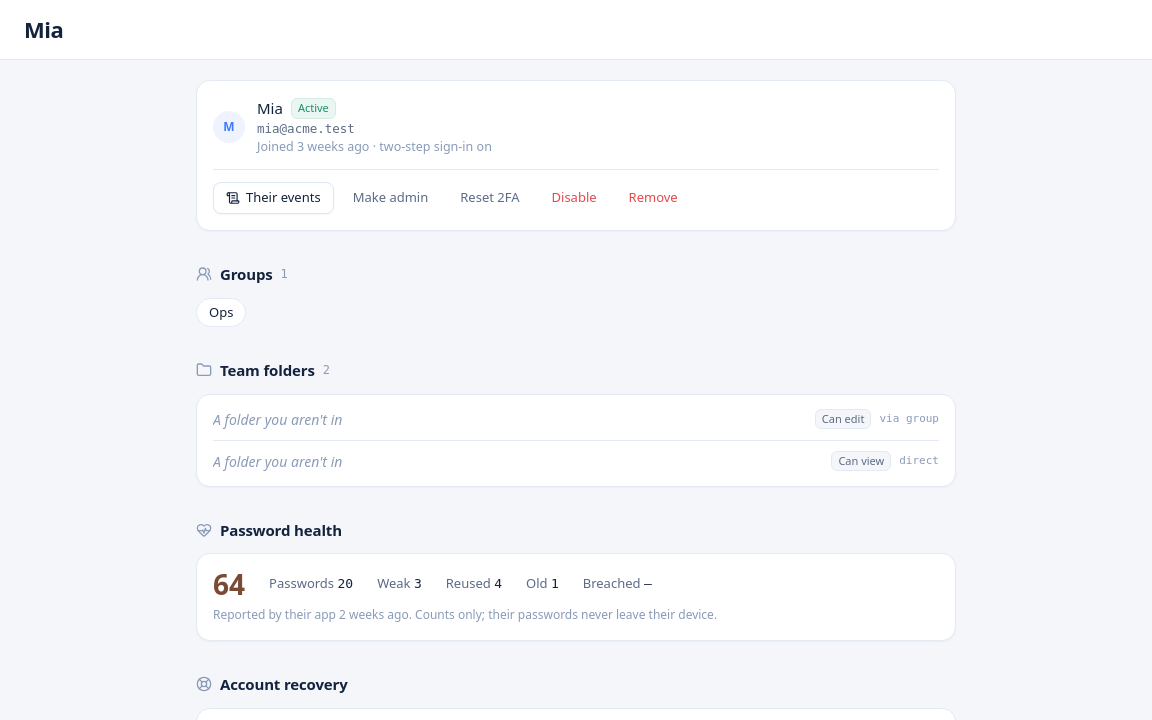
Admin → People → member › acts on the member after confirming; removing goes back to People
The width and height of the screenshot is (1152, 720).
Step 1. Click the button "Remove" → (653, 198), box x1=616 y1=182 x2=691 y2=214
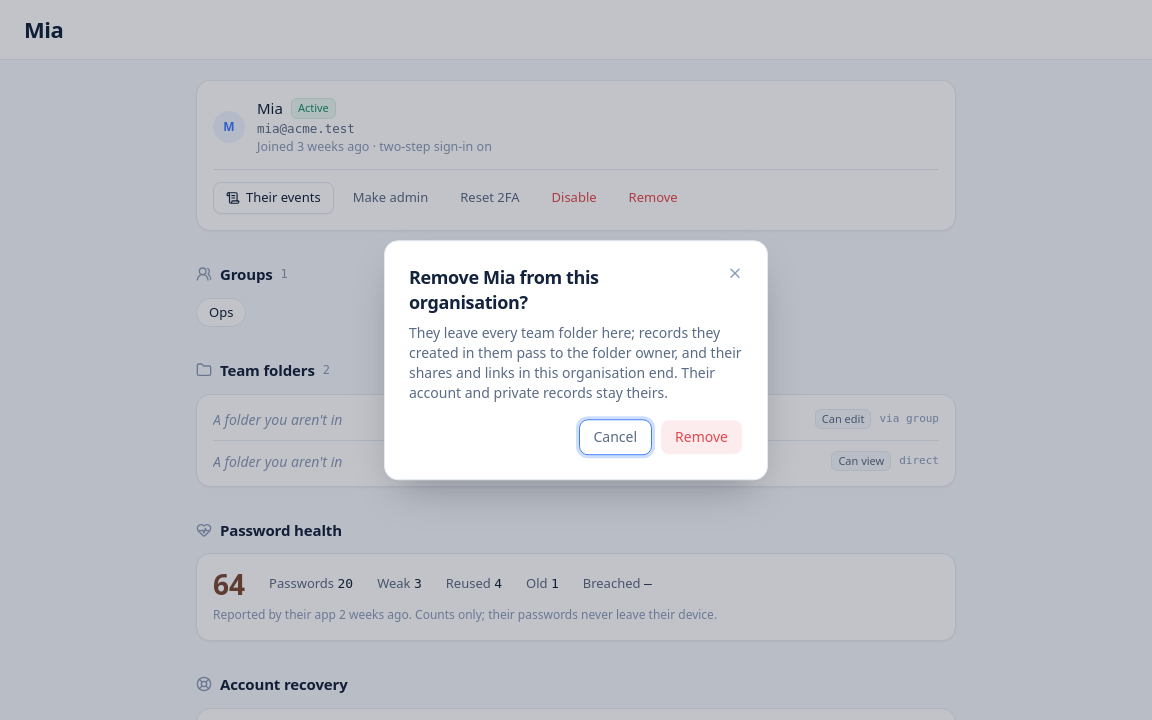
Step 2. Click the button "Remove" → (702, 437), box x1=660 y1=419 x2=743 y2=455
(page scrolled)
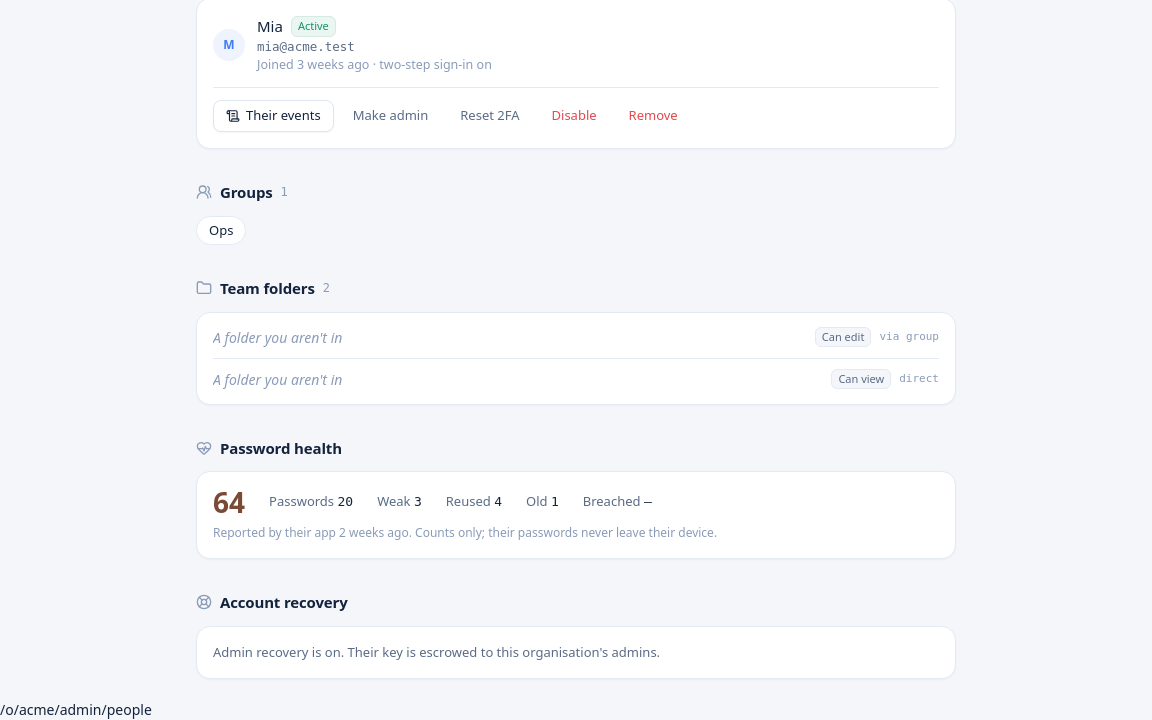
expect the text with test id "where" reads "/o/acme/admin/people": met, box x1=0 y1=700 x2=152 y2=719
